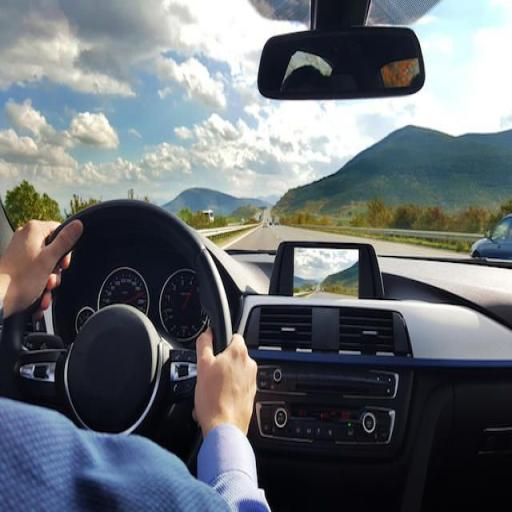Hands-on-the-Wheel: (178, 304, 268, 448), (0, 186, 94, 315)
